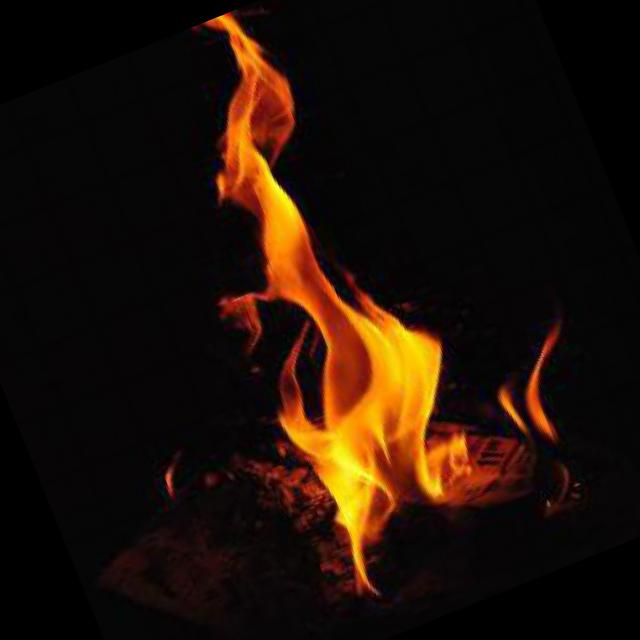fire: (66, 0, 610, 621)
